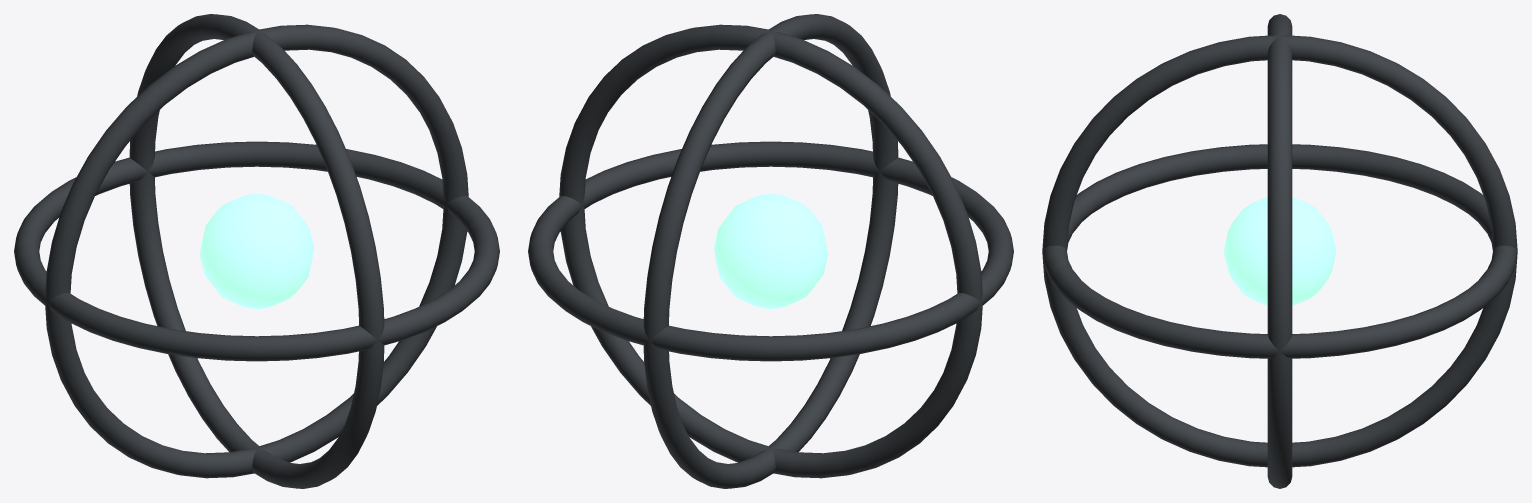
File: sonar_decoy.glb
3 renders of one model, left to right at view 1: azimuth 30°, elevation 25°; view 2: azimuth 150°, elevation 25°; view 3: azimuth 270°, elevation 25°, orthographic. The views are drawn at different scales.
Visible parts, largest first — view 1: decoy cage.002, decoy cage, decoy cage.001, decoy echo; view 2: decoy cage.002, decoy cage, decoy cage.001, decoy echo; view 3: decoy cage, decoy cage.001, decoy cage.002, decoy echo.
Part boxes in pixels (x1,y1,x2,y2): decoy cage.002: (45,24,468,478); decoy cage: (129,14,384,488); decoy cage.001: (14,141,499,361); decoy echo: (200,194,313,308); decoy cage.002: (559,24,982,478); decoy cage: (643,14,898,488); decoy cage.001: (528,141,1013,361); decoy echo: (714,194,827,308); decoy cage: (1042,35,1517,467); decoy cage.001: (1042,144,1517,358); decoy cage.002: (1267,14,1292,488); decoy echo: (1223,197,1336,305).
Bounding box in the file's own units: 0.422 × 0.422 × 0.422.
